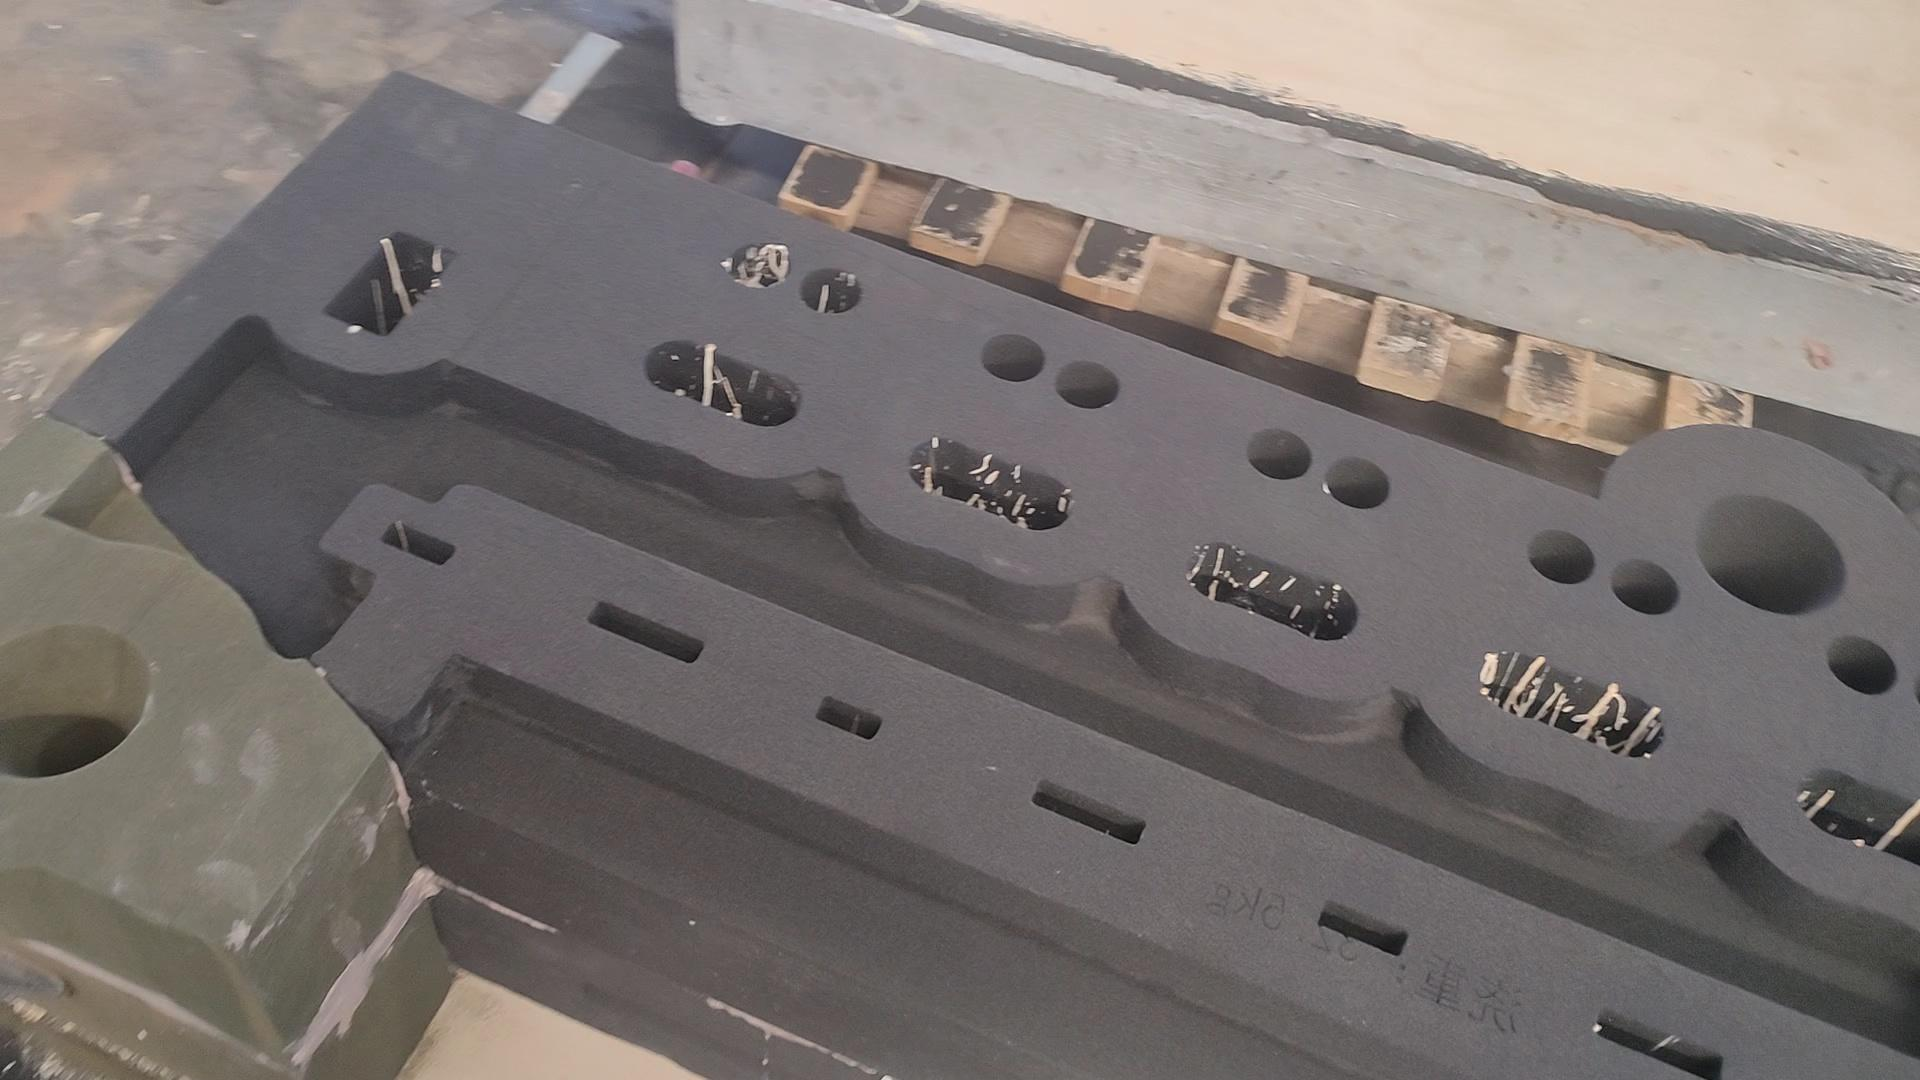pouring hole: (1, 620, 152, 777), (1695, 492, 1847, 618)
